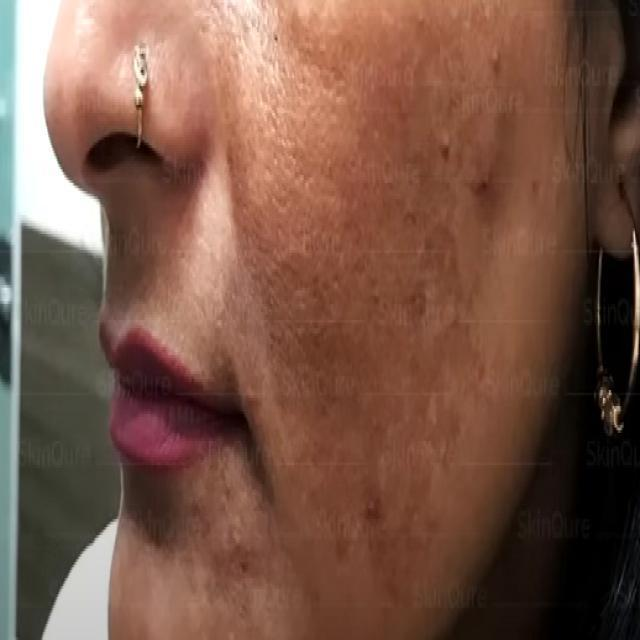Melasma: (262, 45, 520, 598)
